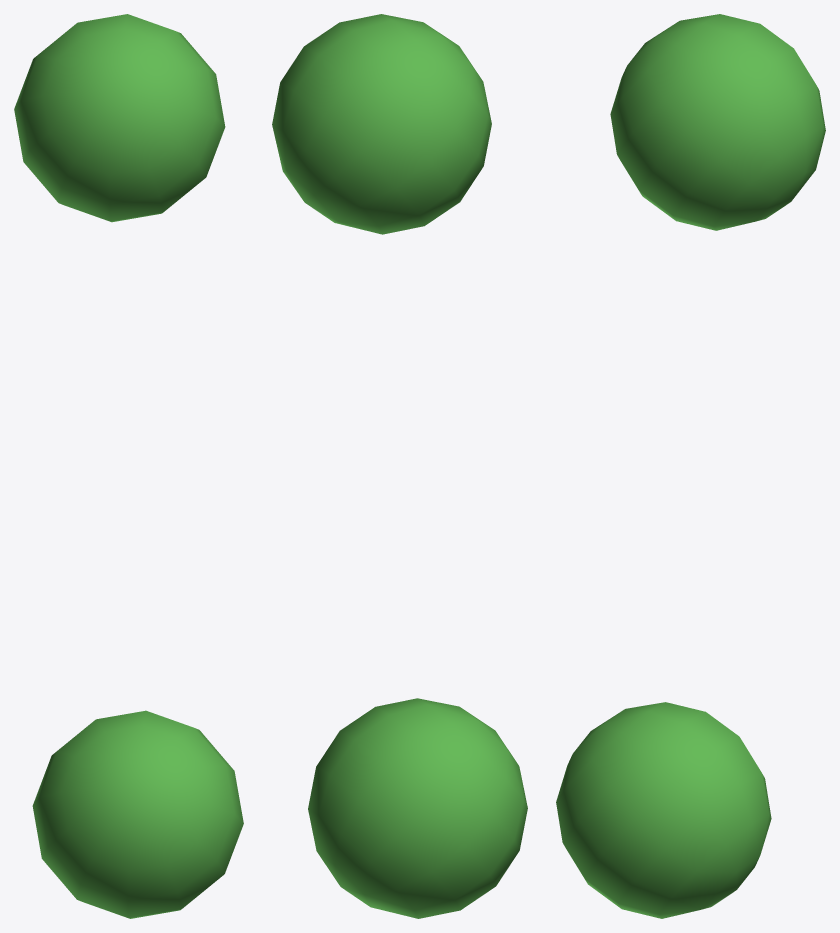
File: linfatico-retropharyngeal-nodes-l.glb
3 views of the same model, side by side, from view 1: azimuth 30°, elevation 25°; view 2: azimuth 150°, elevation 25°; view 3: azimuth 270°, elevation 25° (orthographic). The views are drawn at different scales.
Visible parts, largest first — view 1: Retropharyngeal nodes.l; view 2: Retropharyngeal nodes.l; view 3: Retropharyngeal nodes.l.
Part boxes in pixels (left/top/right/bottom): Retropharyngeal nodes.l: left=14, top=14, right=243, bottom=918; Retropharyngeal nodes.l: left=272, top=14, right=527, bottom=918; Retropharyngeal nodes.l: left=556, top=14, right=825, bottom=918.
Size of the model in its own units: 0.0027 by 0.0117 by 0.00323.
